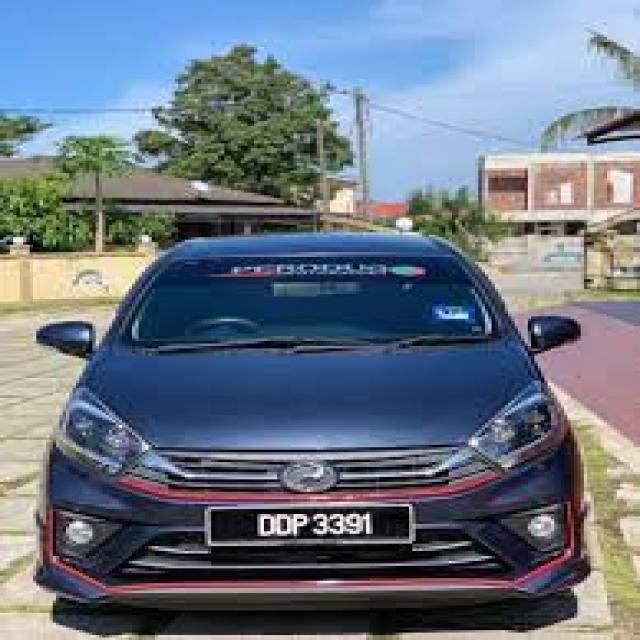PeroduaAxia: (30, 227, 594, 613)
